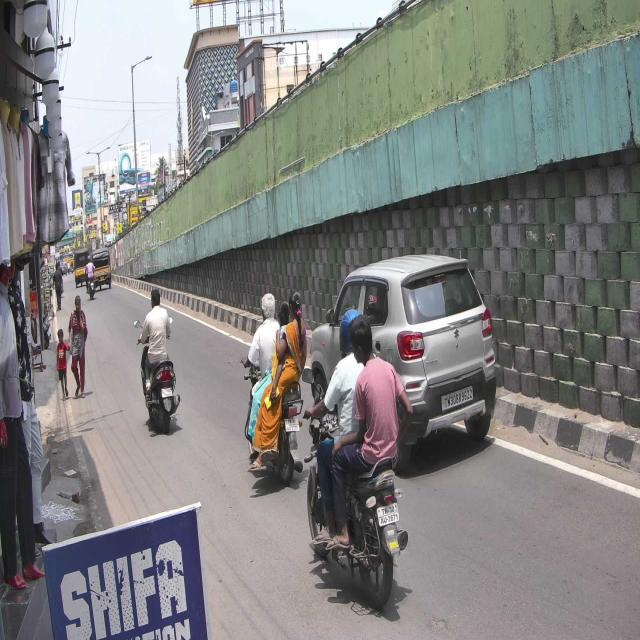double_rider: (306, 306, 409, 609)
single_rider: (135, 286, 179, 438)
triple_rider: (242, 289, 304, 487)
